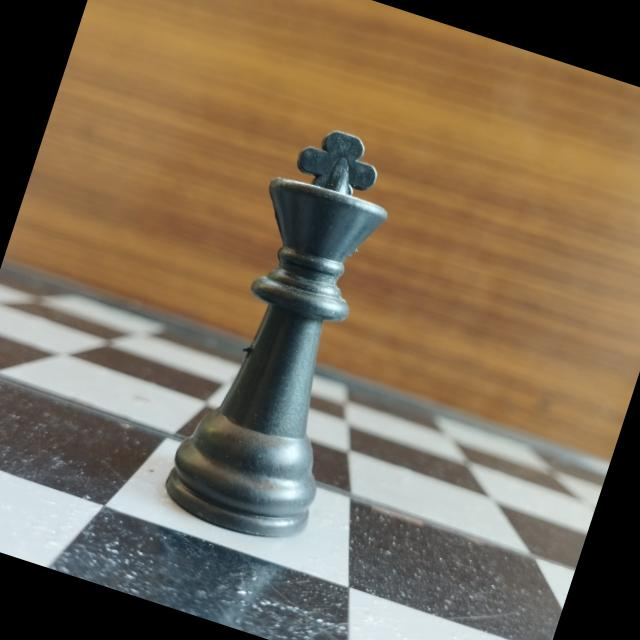Black King: (150, 103, 440, 562)
